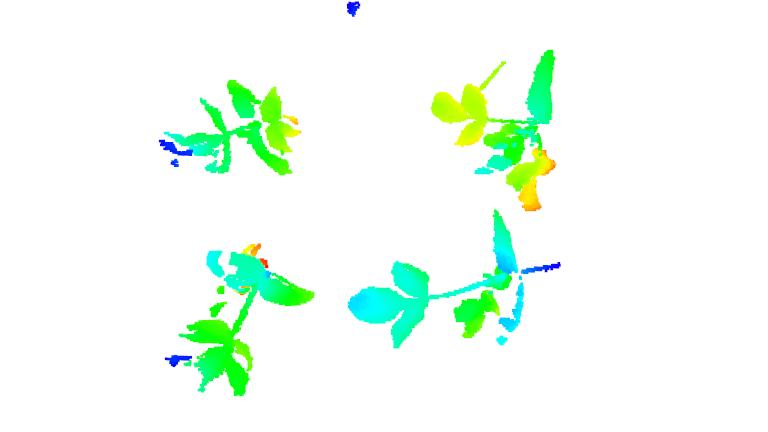mungbean: (348, 210, 560, 353), (176, 240, 322, 400), (429, 46, 568, 213), (165, 78, 306, 182)
